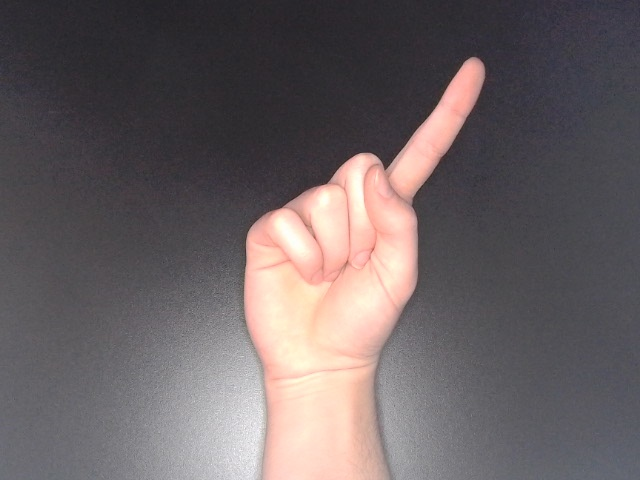z: (233, 52, 491, 402)
